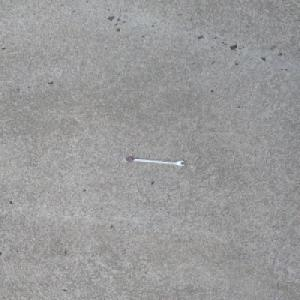Wrench: (123, 156, 186, 166)
